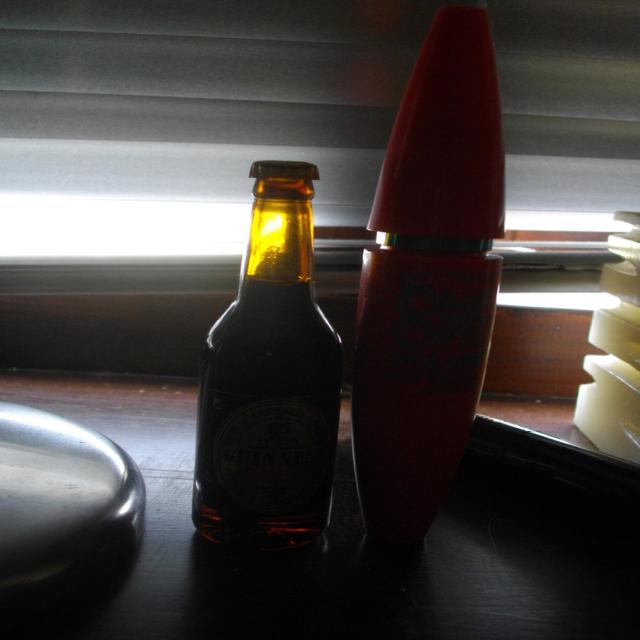Bottle: (183, 92, 354, 553)
